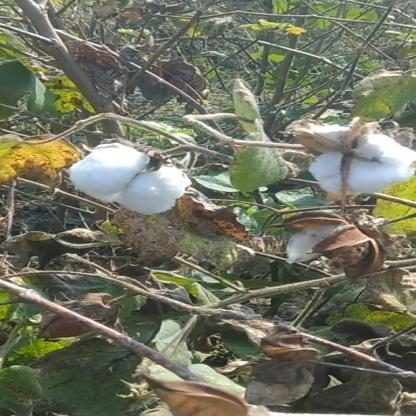cotton_ready: (262, 110, 416, 214), (45, 125, 197, 221)
